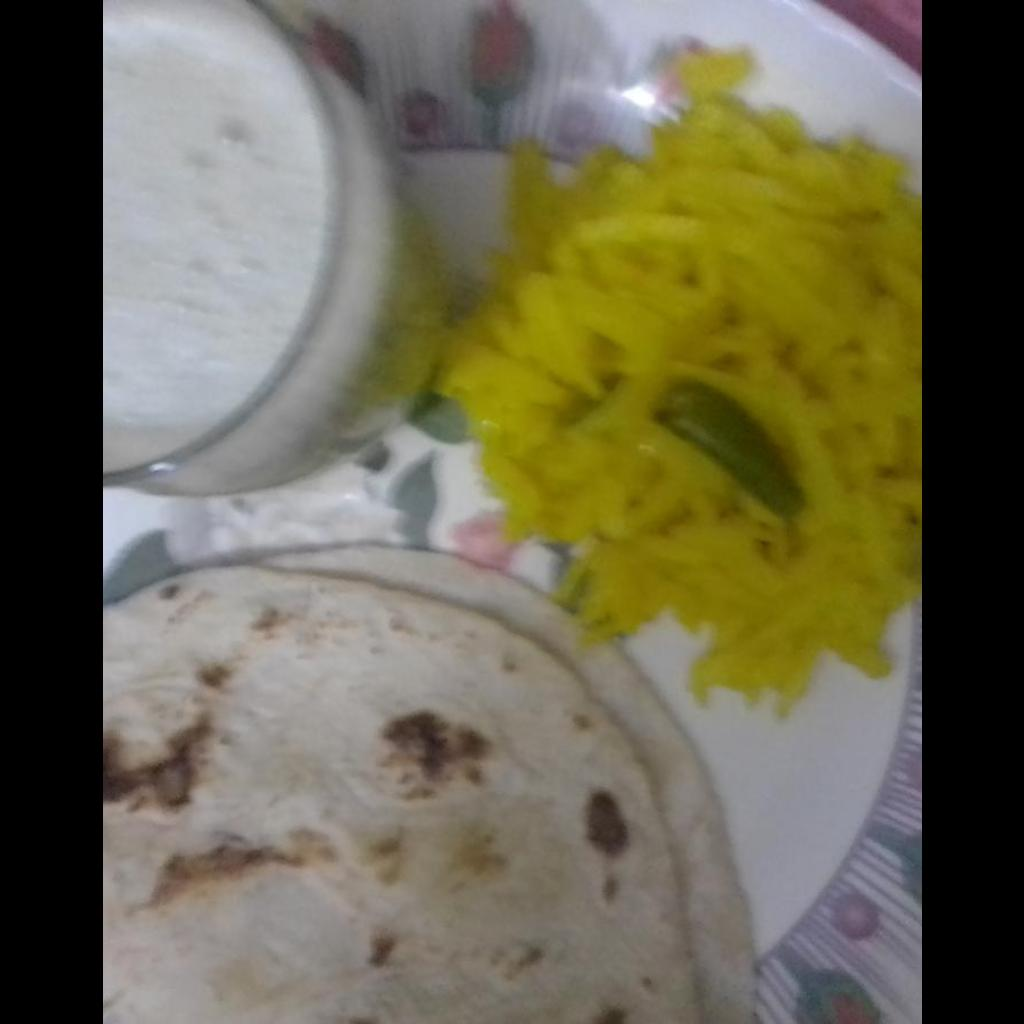milk: (102, 15, 328, 458)
ruti: (102, 547, 762, 1023)
vaji: (453, 113, 920, 697)
